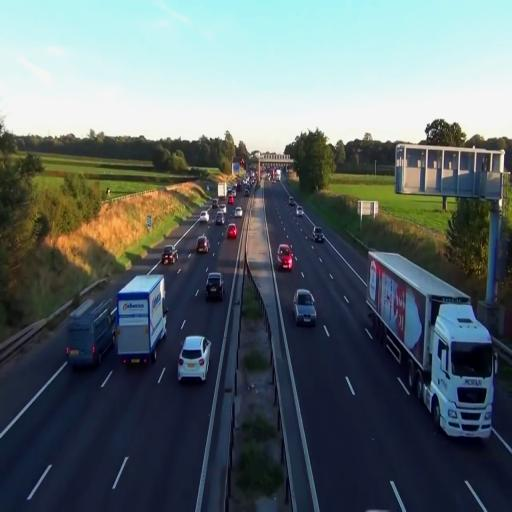vehicle: (365, 249, 495, 441), (115, 270, 167, 366), (64, 295, 116, 370), (177, 334, 211, 385), (293, 287, 317, 326), (205, 271, 224, 303), (276, 242, 295, 272), (195, 235, 210, 256), (162, 245, 176, 267), (213, 208, 227, 226), (226, 222, 238, 242), (313, 230, 324, 244), (315, 230, 325, 244)
